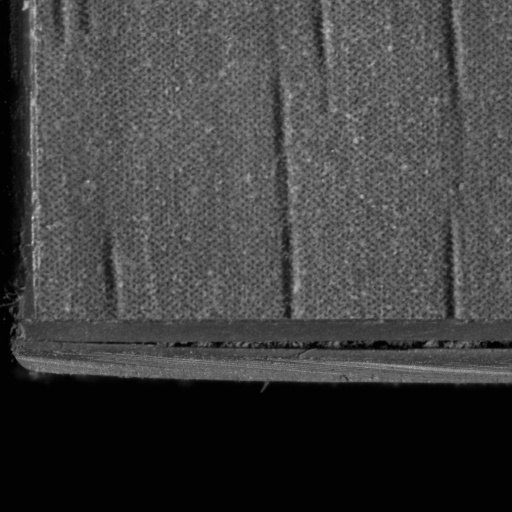kaijiao: (10, 318, 511, 384)
